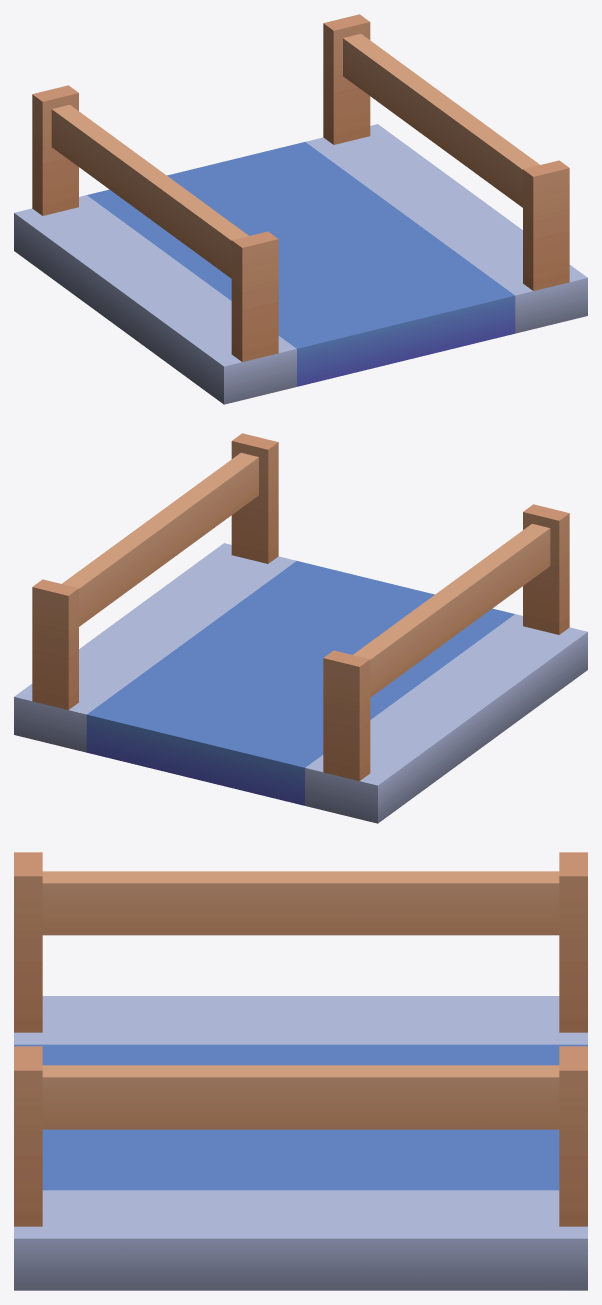
Rendered from queue-straight.glb.
3 views of the same model, one above another, from view 1: azimuth 30°, elevation 25°; view 2: azimuth 150°, elevation 25°; view 3: azimuth 270°, elevation 25° (orthographic). The views are drawn at different scales.
Parts seen in each view (by area): view 1: queue-straight; view 2: queue-straight; view 3: queue-straight.
Boxes of the visible parts, x1,y1,x2,y2 form: queue-straight: (14, 14, 587, 404); queue-straight: (14, 433, 587, 823); queue-straight: (14, 852, 587, 1290).
Bounding box in the file's own units: 1 × 0.3999 × 1.
1 material, 1 textured.
